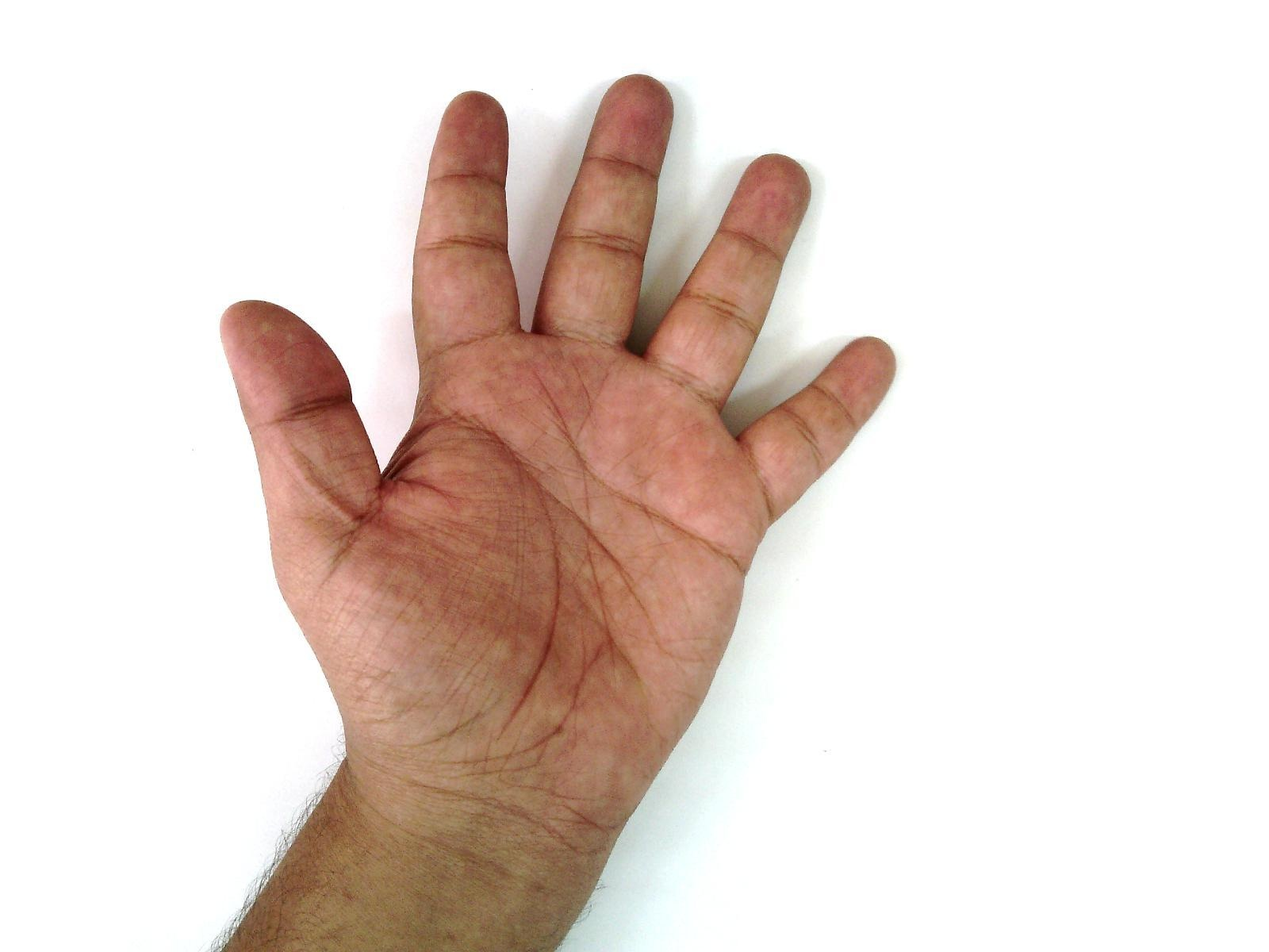open_palm: (216, 73, 901, 814)
